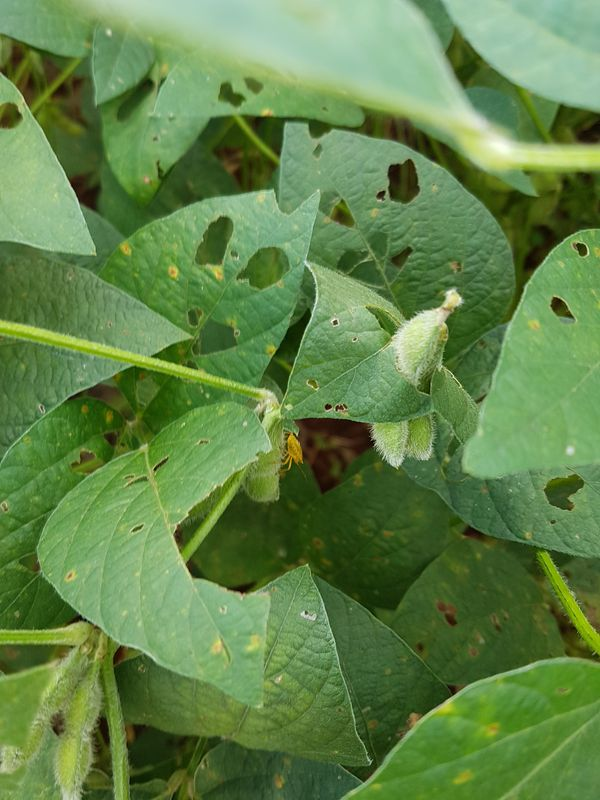Euschistus_heros_ninfa: (267, 429, 310, 477)
